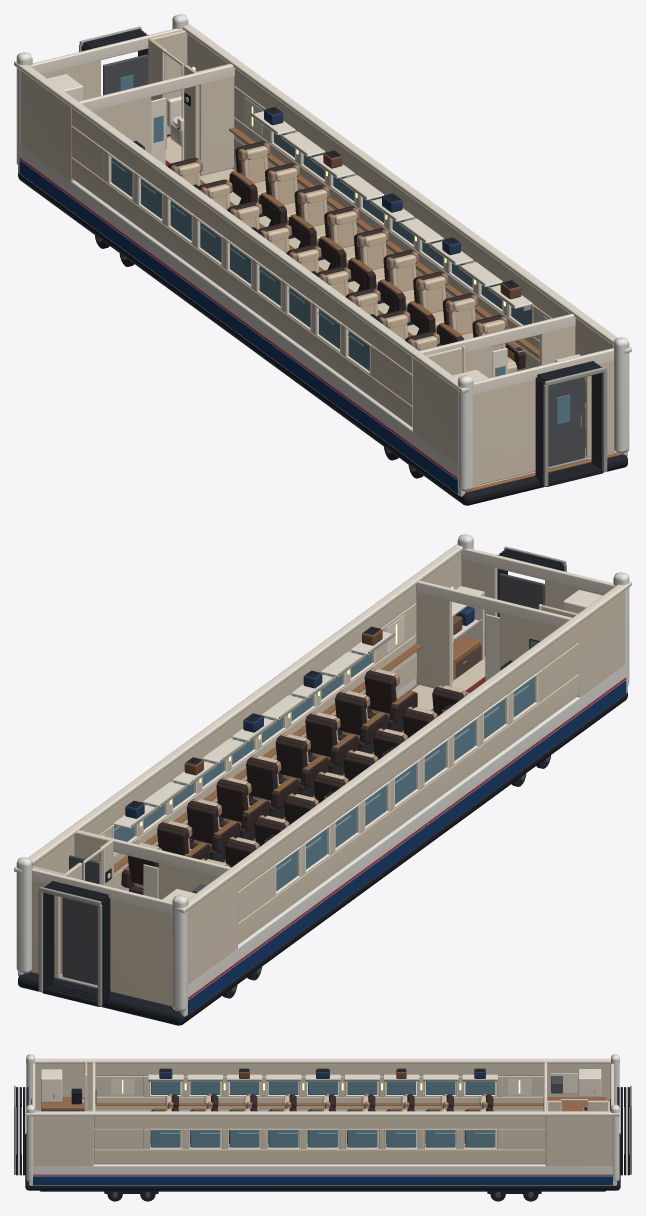
File: first_class_wagon.glb
The picture shows the model from 3 angles, top to bottom: view 1: azimuth 30°, elevation 25°; view 2: azimuth 150°, elevation 25°; view 3: azimuth 270°, elevation 25°; orthographic projection. The views are drawn at different scales.
Visible parts, largest first — view 1: White lower exterior side, Lower window wall, Blue exterior lower band, Continuous window header, Partition left wing.001, Continuous window header.001, Top wall structural cap, Top wall structural cap.001, Long continuous underfloor, Rear vestibule continuous side wall, Front vestibule continuous side wall, Partition right wing.002 (+34 smaller); view 2: White lower exterior side, Lower window wall, Blue exterior lower band, Continuous window header, Partition left wing.003, Continuous window header.001, Top wall structural cap, Top wall structural cap.001, Long continuous underfloor, Rear vestibule continuous side wall, Front vestibule continuous side wall, Partition right wing (+38 smaller); view 3: White lower exterior side.001, Lower window wall.001, Continuous window header.001, Blue exterior lower band.001, Continuous window header, Top wall structural cap.001, Rear vestibule continuous side wall.001, Top wall structural cap, Lower window wall, Long continuous underfloor, Front vestibule continuous side wall.001, Front vestibule continuous side wall (+53 smaller).
Boxes of the visible parts, bbox=[...] form: White lower exterior side: bbox=[18, 145, 465, 496]; Lower window wall: bbox=[71, 157, 412, 427]; Blue exterior lower band: bbox=[19, 160, 457, 493]; Continuous window header: bbox=[71, 108, 412, 374]; Partition left wing.001: bbox=[473, 380, 535, 486]; Continuous window header.001: bbox=[234, 69, 569, 318]; Top wall structural cap: bbox=[14, 61, 469, 392]; Top wall structural cap.001: bbox=[183, 23, 631, 353]; Long continuous underfloor: bbox=[18, 134, 627, 505]; Rear vestibule continuous side wall: bbox=[20, 70, 73, 181]; Front vestibule continuous side wall: bbox=[412, 357, 457, 464]; Partition right wing.002: bbox=[199, 76, 234, 175]; White lower exterior side: bbox=[180, 665, 627, 1016]; Lower window wall: bbox=[238, 674, 579, 943]; Blue exterior lower band: bbox=[188, 680, 626, 1013]; Continuous window header: bbox=[238, 624, 578, 890]; Partition left wing.003: bbox=[110, 900, 172, 1006]; Continuous window header.001: bbox=[80, 585, 416, 834]; Top wall structural cap: bbox=[176, 581, 631, 912]; Top wall structural cap.001: bbox=[14, 543, 462, 873]; Long continuous underfloor: bbox=[18, 692, 627, 1025]; Rear vestibule continuous side wall: bbox=[188, 874, 237, 984]; Front vestibule continuous side wall: bbox=[577, 590, 625, 697]; Partition right wing: bbox=[416, 593, 451, 688]; White lower exterior side.001: bbox=[29, 1164, 616, 1185]; Lower window wall.001: bbox=[94, 1149, 545, 1163]; Continuous window header.001: bbox=[94, 1116, 545, 1128]; Blue exterior lower band.001: bbox=[33, 1176, 612, 1185]; Continuous window header: bbox=[95, 1063, 543, 1075]; Top wall structural cap.001: bbox=[26, 1111, 619, 1116]; Rear vestibule continuous side wall.001: bbox=[545, 1116, 612, 1166]; Top wall structural cap: bbox=[26, 1058, 619, 1063]; Lower window wall: bbox=[95, 1096, 543, 1109]; Long continuous underfloor: bbox=[25, 1133, 620, 1190]; Front vestibule continuous side wall.001: bbox=[33, 1116, 93, 1166]; Front vestibule continuous side wall: bbox=[35, 1063, 92, 1109].
Size of what is drawn, in the model's own units: 3.99 by 3.37 by 18.88.
